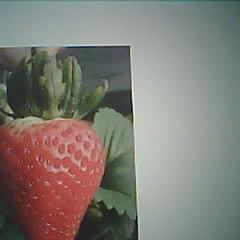straw-ripe: (3, 117, 105, 240)
